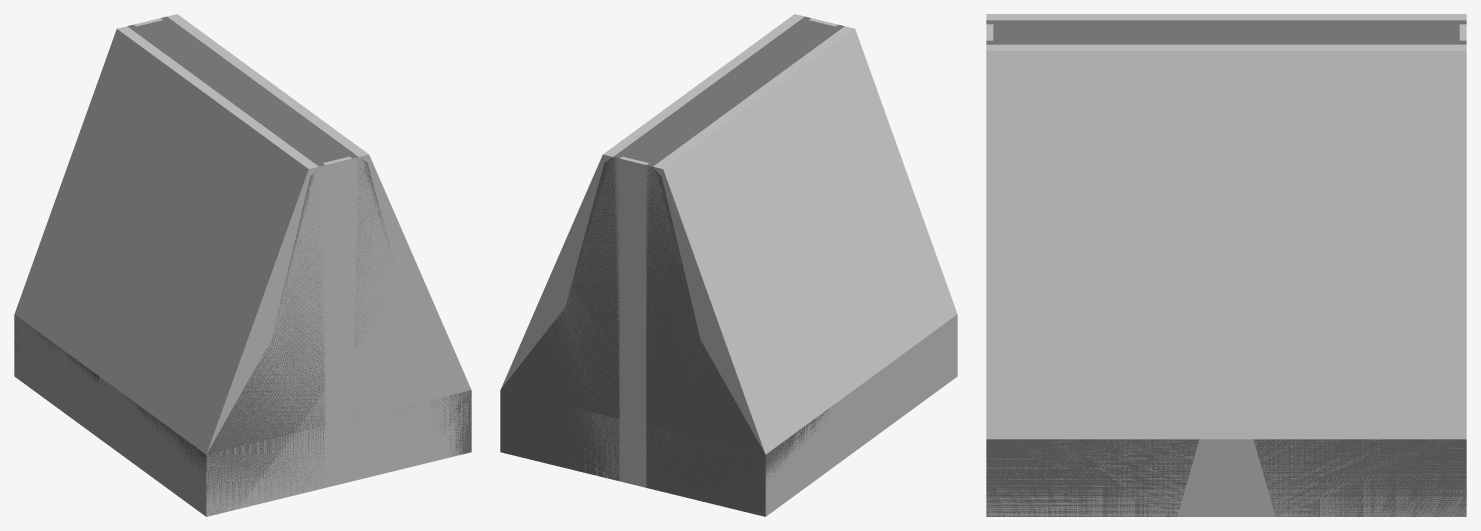
File: SM_Barrier_02_a.fbx
3 views of the same model, side by side, from view 1: azimuth 30°, elevation 25°; view 2: azimuth 150°, elevation 25°; view 3: azimuth 270°, elevation 25° (orthographic). The views are drawn at different scales.
Visible parts, largest first — view 1: SM_Barrier_02_a_ConvexHulls, SM_Barrier_02_a; view 2: SM_Barrier_02_a_ConvexHulls, SM_Barrier_02_a; view 3: SM_Barrier_02_a_ConvexHulls, SM_Barrier_02_a.
Part boxes in pixels (<box>): SM_Barrier_02_a_ConvexHulls: <box>14,14,471,516</box>; SM_Barrier_02_a: <box>14,16,471,515</box>; SM_Barrier_02_a_ConvexHulls: <box>501,14,957,516</box>; SM_Barrier_02_a: <box>500,16,949,516</box>; SM_Barrier_02_a_ConvexHulls: <box>986,14,1466,516</box>; SM_Barrier_02_a: <box>986,20,1466,516</box>.
Bounding box in the file's own units: 67.51 × 84.62 × 78.52.
Materials: 2 (1 with a texture image).
